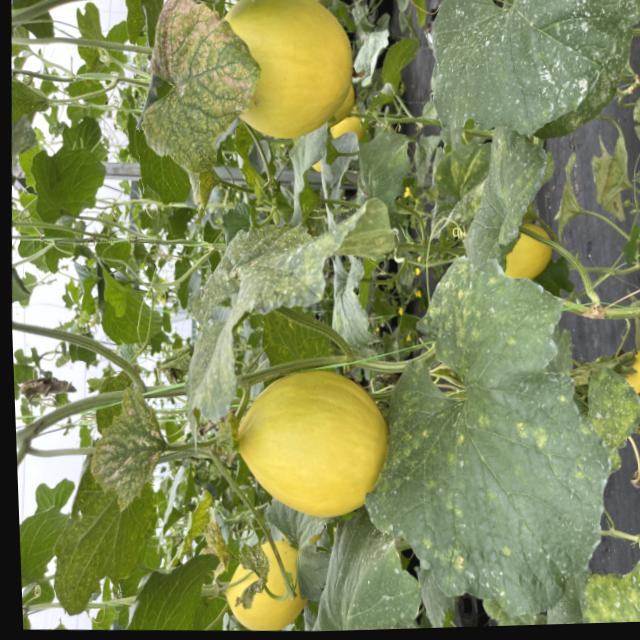CMV: (124, 0, 265, 179)
SLCV: (174, 181, 406, 421), (79, 384, 174, 519), (196, 501, 277, 607)
bacterial wilt: (18, 366, 75, 406)
downy mildew: (344, 238, 640, 625), (460, 122, 556, 265)
powdery mildew: (418, 0, 640, 158)
